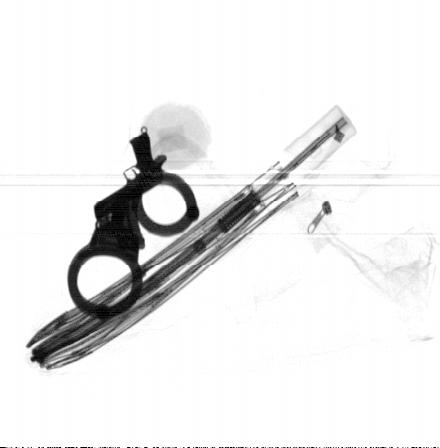Gun: (94, 130, 167, 219)
HandCuffs: (66, 171, 199, 318)
